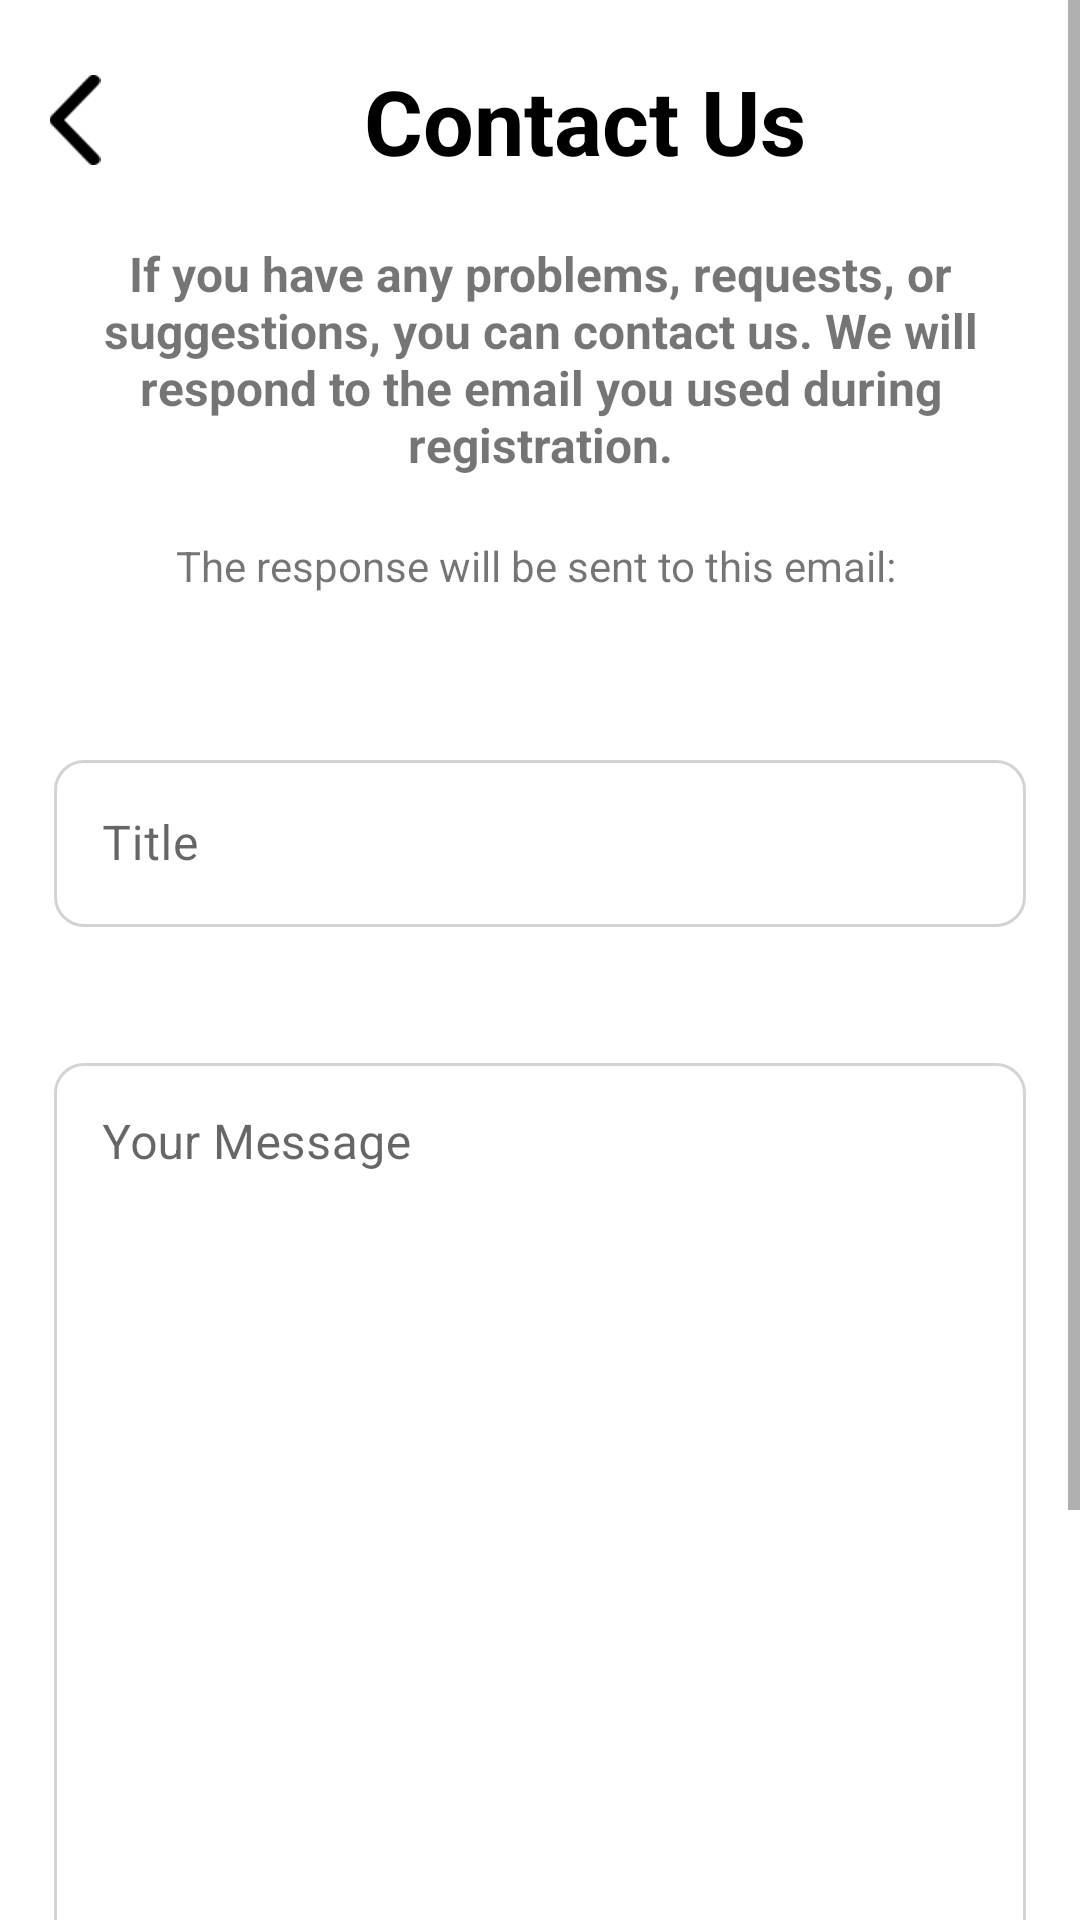

Icons on this 1080w x 1920h Android screen, each with the point to tap as point (x, y):
back: point (75, 120)
